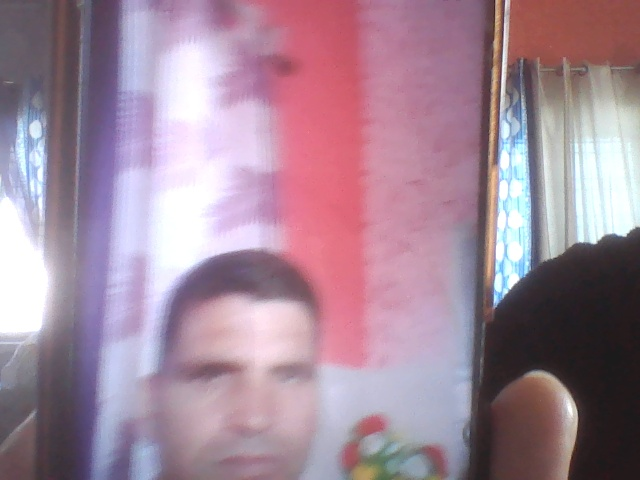fake: (136, 224, 344, 480)
